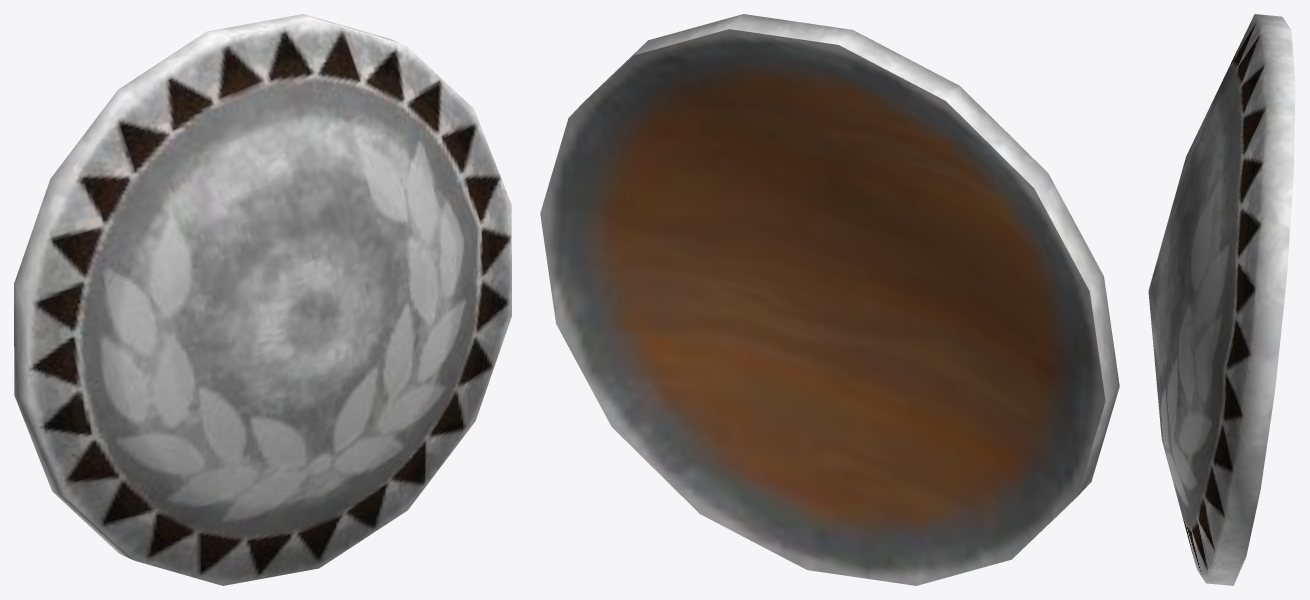
The model's file is shield-bronzeshields.glb.
The picture shows the model from 3 angles, left to right: view 1: azimuth 30°, elevation 25°; view 2: azimuth 150°, elevation 25°; view 3: azimuth 270°, elevation 25°; orthographic projection. The views are drawn at different scales.
Bounding box in the file's own units: 0.6844 × 0.6839 × 0.1769.
1 material, 1 textured.
